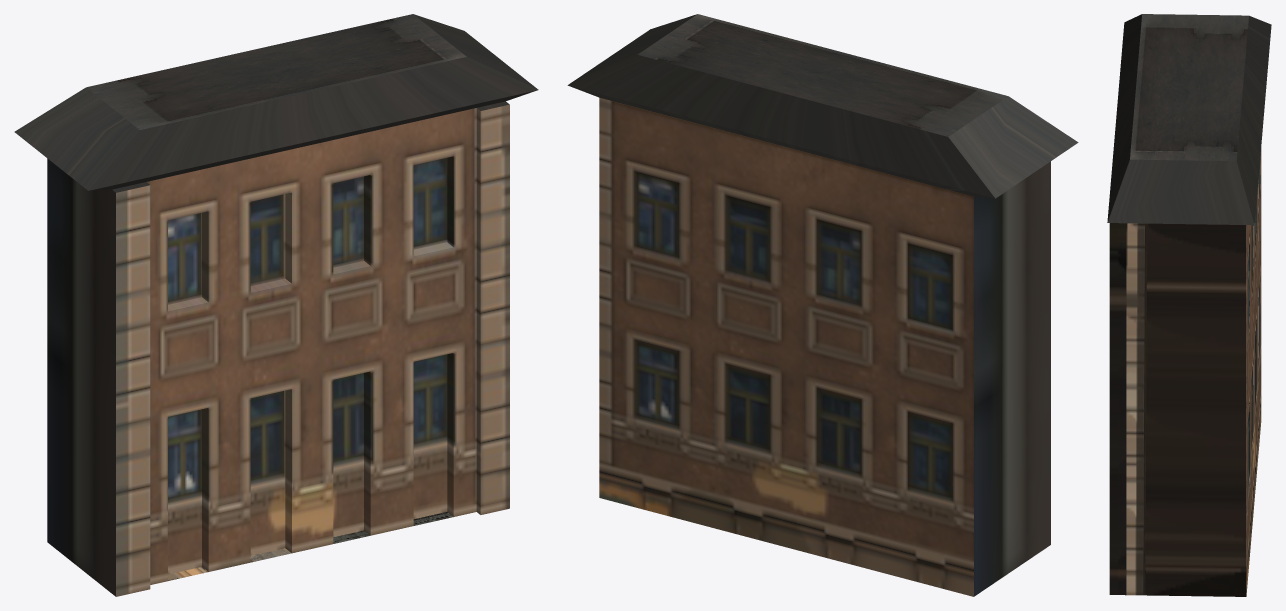
The model's file is build1.fbx.
3 renders of one model, left to right at view 1: azimuth 30°, elevation 25°; view 2: azimuth 150°, elevation 25°; view 3: azimuth 270°, elevation 25°, orthographic. The views are drawn at different scales.
Visible parts, largest first — view 1: Cube; view 2: Cube; view 3: Cube.
Boxes of the visible parts, x1=… form: Cube: x1=14, y1=14, x2=538, y2=596; Cube: x1=567, y1=14, x2=1078, y2=596; Cube: x1=1107, y1=14, x2=1271, y2=596.
Bounding box in the file's own units: 439 × 425 × 150.
